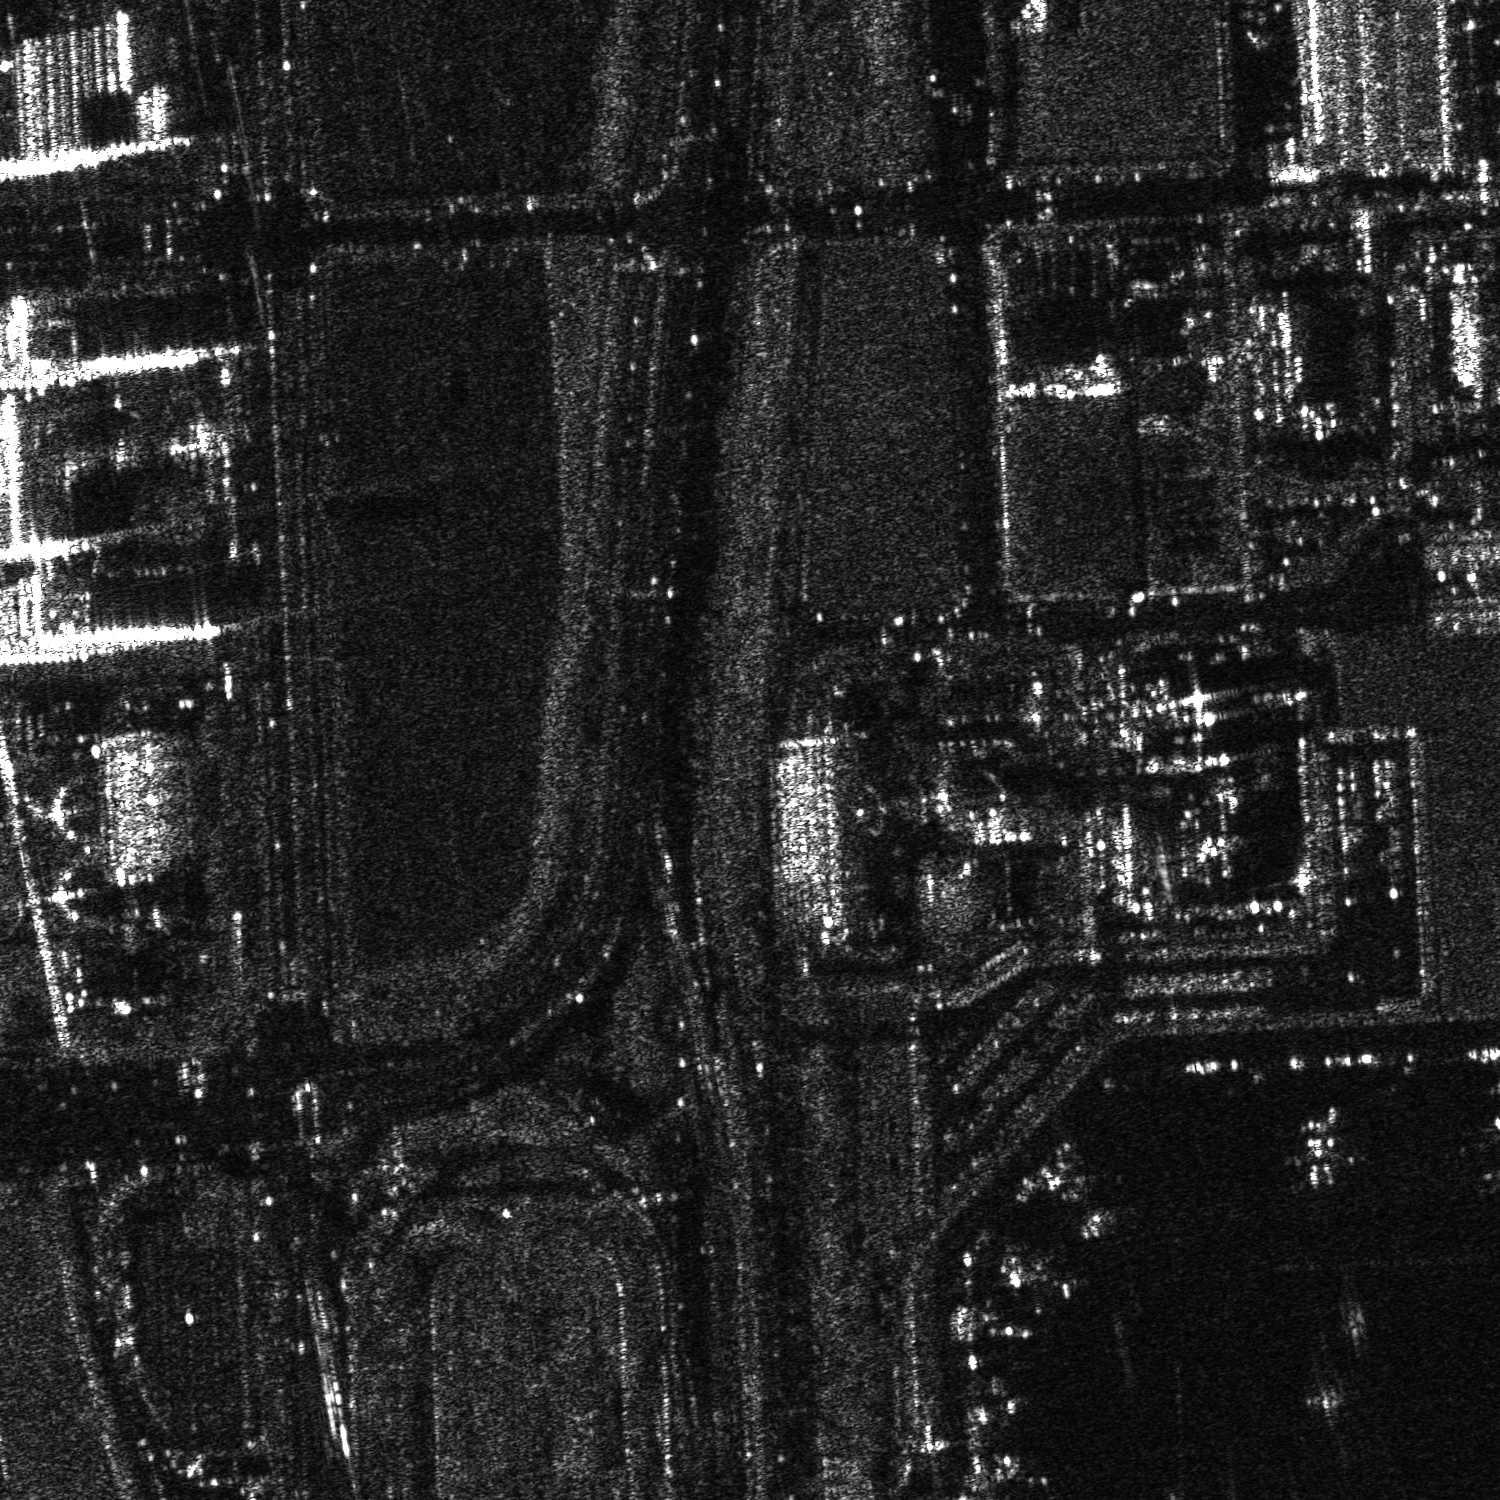A220: (1043, 1163, 1135, 1245), (993, 1245, 1091, 1320)
Boeing737: (1279, 1109, 1370, 1192)
